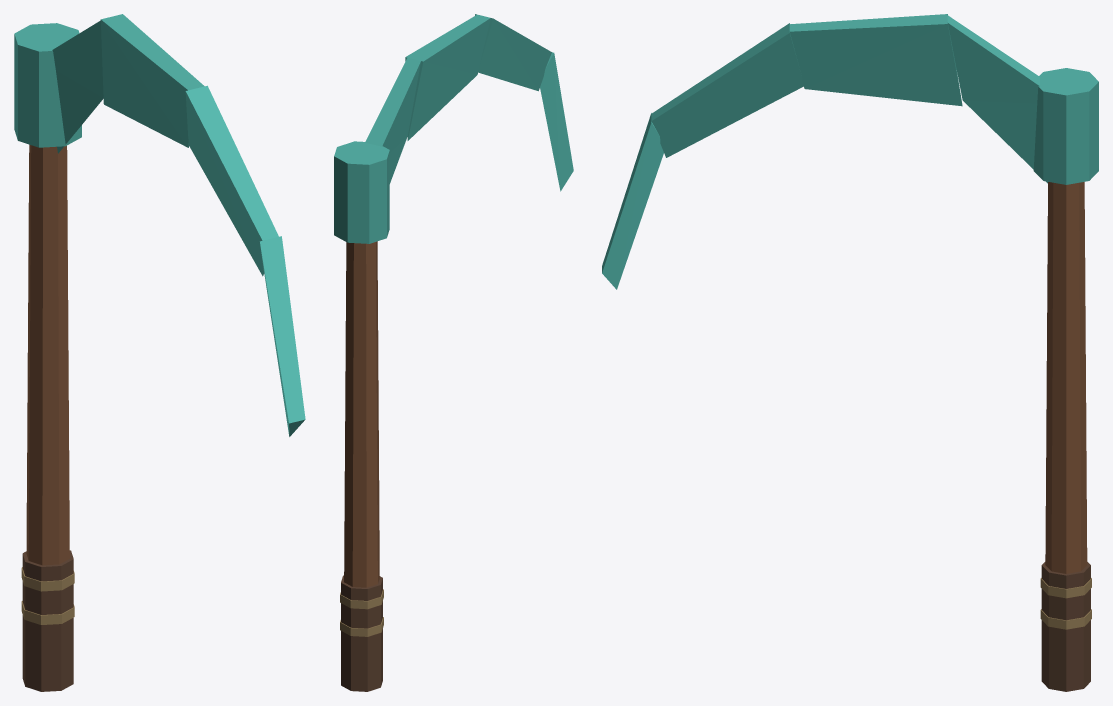
Rendered from tool_scythe_alloy.glb.
The picture shows the model from 3 angles, left to right: view 1: azimuth 30°, elevation 25°; view 2: azimuth 150°, elevation 25°; view 3: azimuth 270°, elevation 25°; orthographic projection. The views are drawn at different scales.
Visible parts, largest first — view 1: tool_scythe_alloy; view 2: tool_scythe_alloy; view 3: tool_scythe_alloy.
Boxes of the visible parts, x1,y1,x2,y2 form: tool_scythe_alloy: (14, 14, 305, 691); tool_scythe_alloy: (334, 14, 573, 691); tool_scythe_alloy: (602, 14, 1098, 691).
Bounding box in the file's own units: 0.066 × 0.74 × 0.503.
